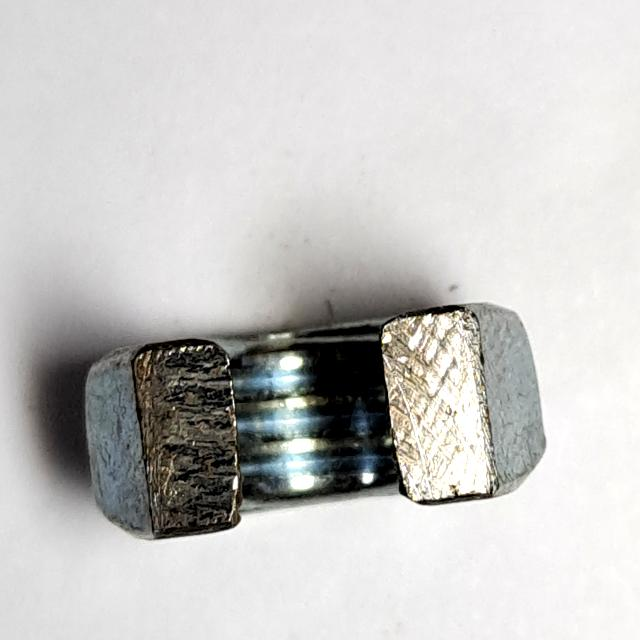Side-Fracture: (70, 295, 559, 558)
